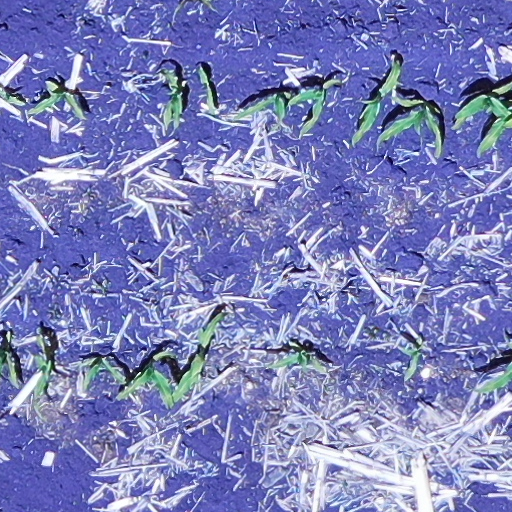planta: (166, 310, 227, 405), (352, 57, 401, 143), (380, 95, 443, 155), (117, 349, 175, 406), (285, 77, 340, 135), (29, 81, 84, 119), (266, 341, 327, 374), (232, 94, 286, 130), (76, 356, 127, 392), (32, 334, 54, 397), (159, 70, 183, 126), (3, 330, 21, 384), (200, 67, 219, 116), (397, 345, 421, 379)
